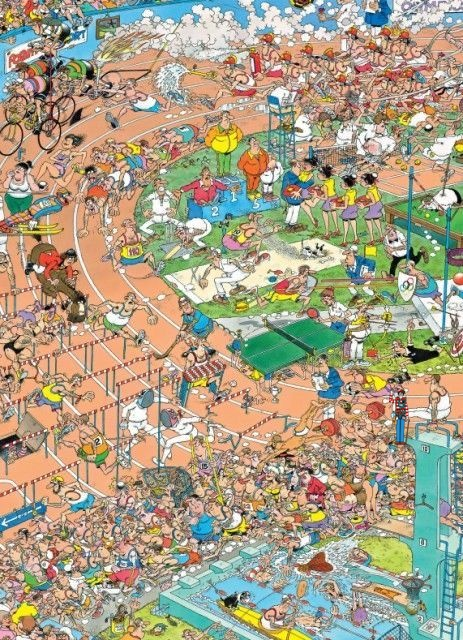waldo: (389, 388, 410, 445)
